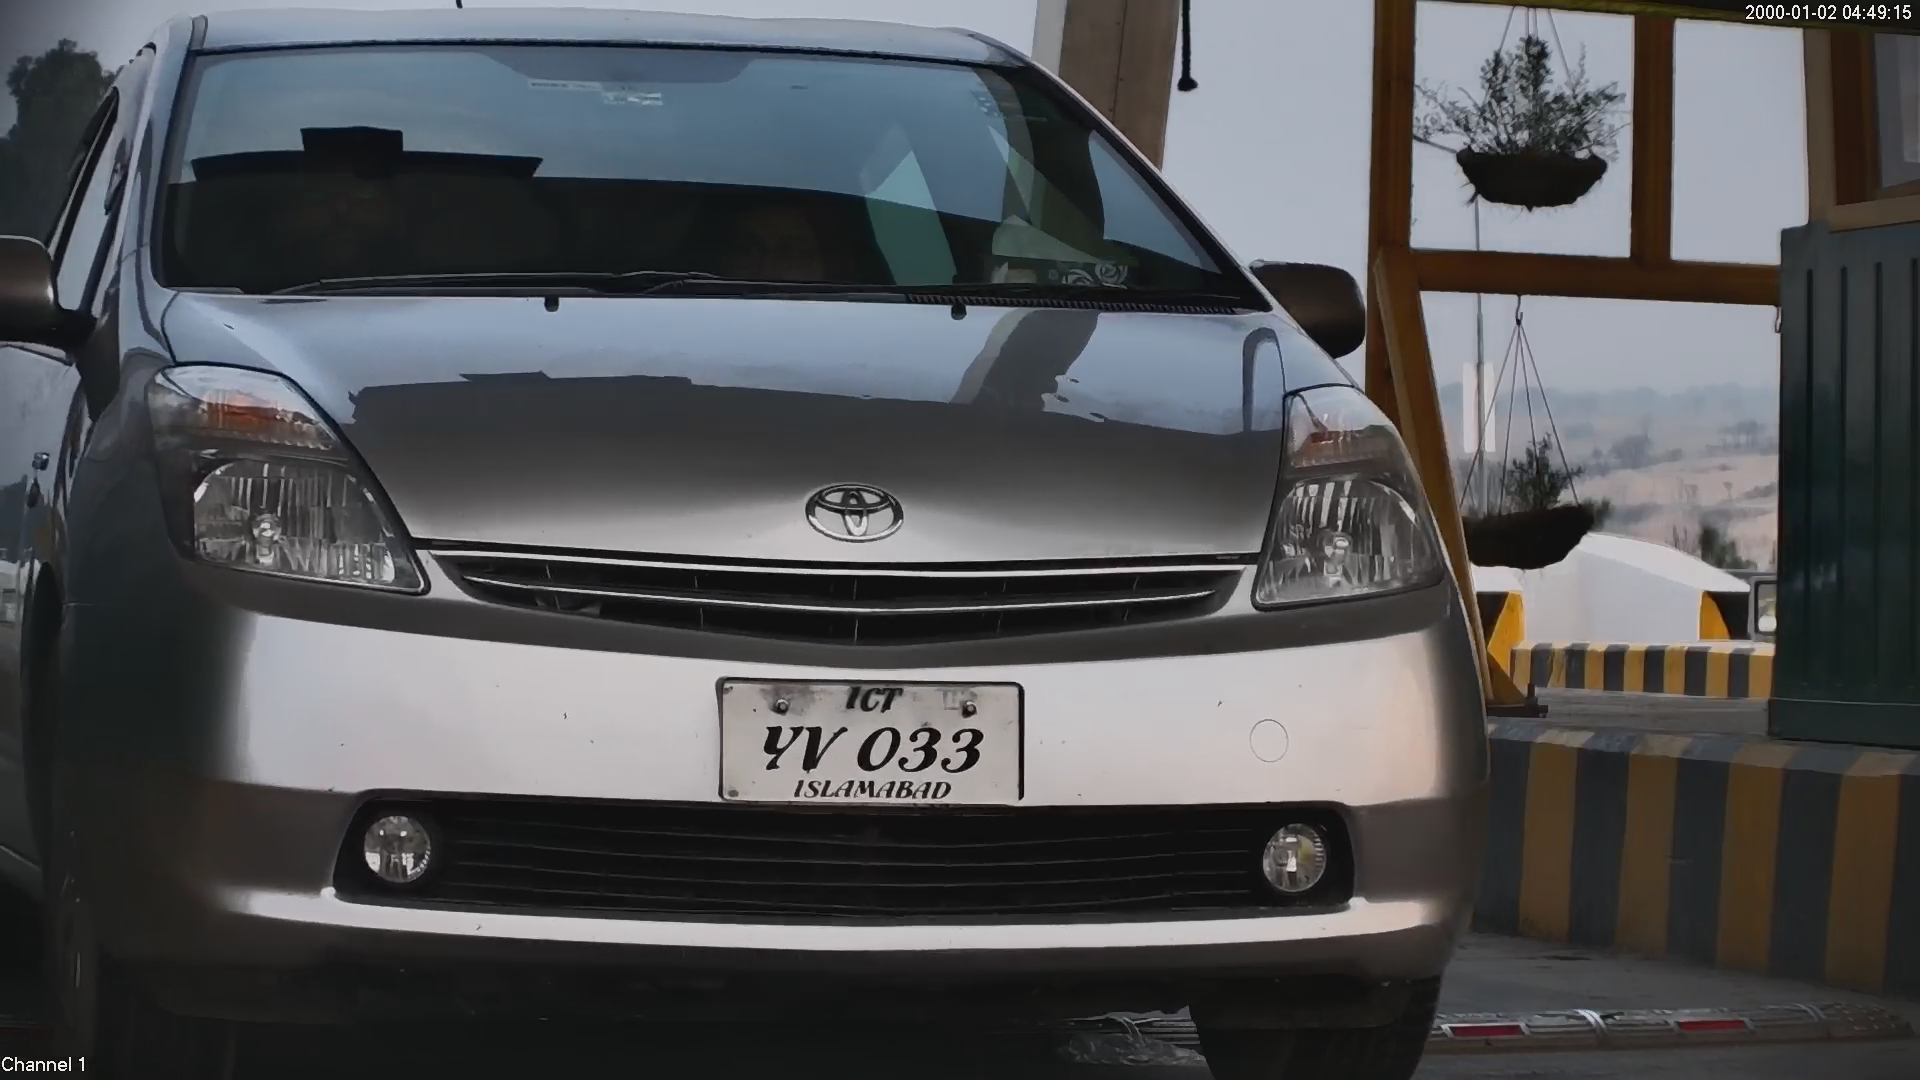Number_Plate: (710, 665, 1036, 823)
